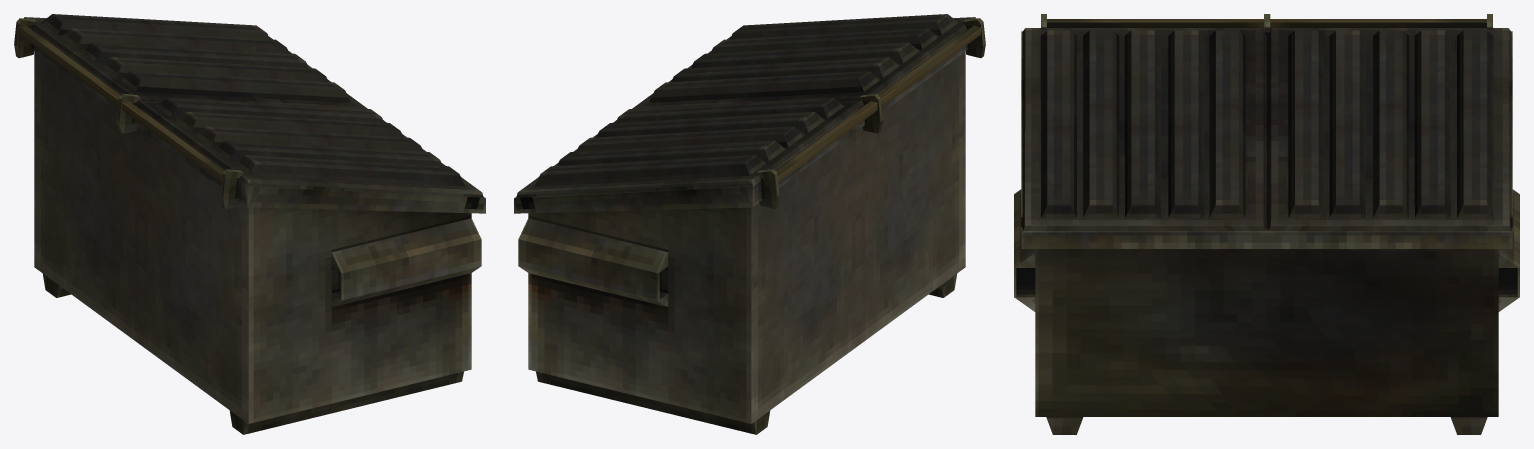
3 renders of one model, left to right at view 1: azimuth 30°, elevation 25°; view 2: azimuth 150°, elevation 25°; view 3: azimuth 270°, elevation 25°, orthographic. The views are drawn at different scales.
Visible parts, largest first — view 1: dumpster_001; view 2: dumpster_001; view 3: dumpster_001.
Part boxes in pixels (x1,y1,x2,y2): dumpster_001: (14,14,485,434); dumpster_001: (514,14,985,434); dumpster_001: (1014,14,1519,434).
Bounding box in the file's own units: 0.0209 × 0.0214 × 0.0333.
2 materials, 2 textured.
